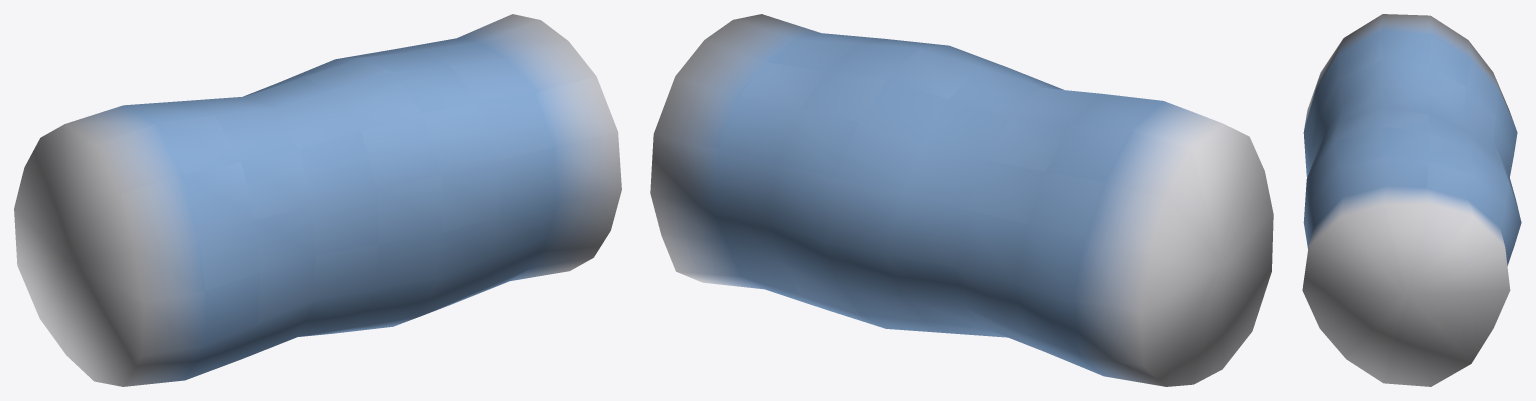
Rendered from Candy_Wood.glb.
3 views of the same model, side by side, from view 1: azimuth 30°, elevation 25°; view 2: azimuth 150°, elevation 25°; view 3: azimuth 270°, elevation 25° (orthographic). The views are drawn at different scales.
Parts seen in each view (by area): view 1: Candy; view 2: Candy; view 3: Candy.
Part boxes in pixels (box(x1,y1,x2,y2)): Candy: box(14, 14, 621, 386); Candy: box(650, 14, 1273, 386); Candy: box(1302, 14, 1521, 386).
Size of the model in its own units: 0.79 by 0.3939 by 0.385.
